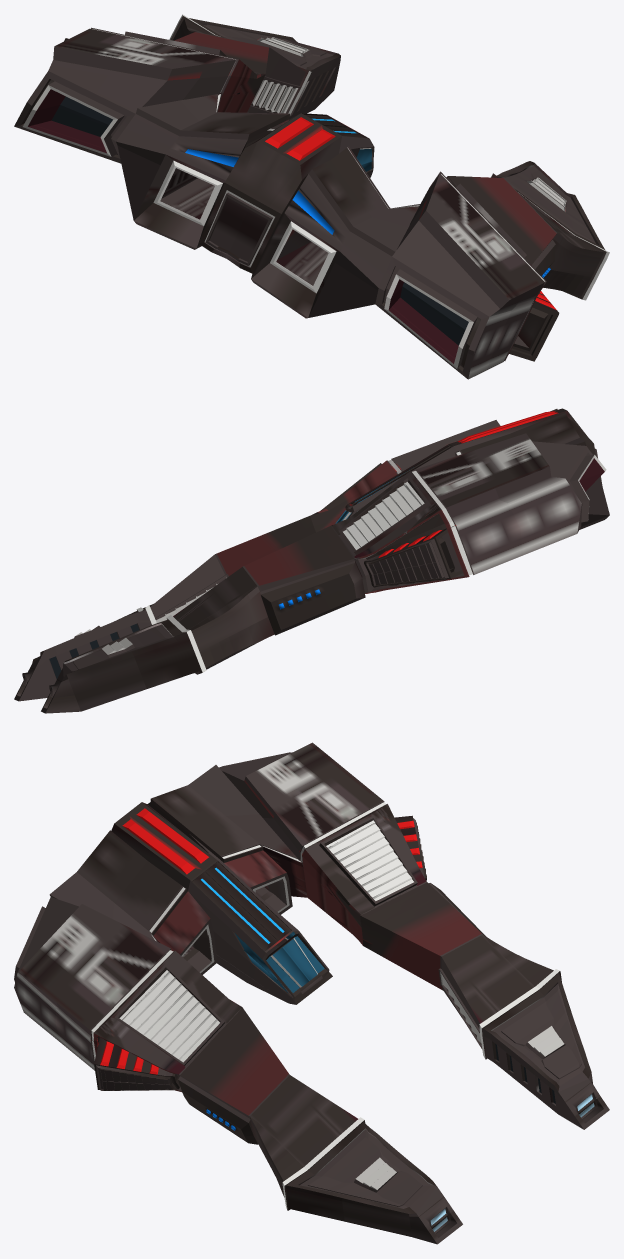
File: Transporte.obj
3 renders of one model, top to bottom at view 1: azimuth 30°, elevation 25°; view 2: azimuth 150°, elevation 25°; view 3: azimuth 270°, elevation 25°, orthographic. The views are drawn at different scales.
Parts seen in each view (by area): view 1: Parte5, Parte2, Parte0; view 2: Parte5; view 3: Parte5, Parte3.
Part boxes in pixels (left/top/right/bottom): Parte5: left=14, top=14, right=609, bottom=379; Parte2: left=51, top=96, right=468, bottom=345; Parte0: left=185, top=149, right=550, bottom=277; Parte5: left=14, top=408, right=609, bottom=713; Parte5: left=14, top=742, right=609, bottom=1244; Parte3: left=235, top=931, right=324, bottom=992.
Bounding box in the file's own units: 0.9237 × 0.53 × 1.
